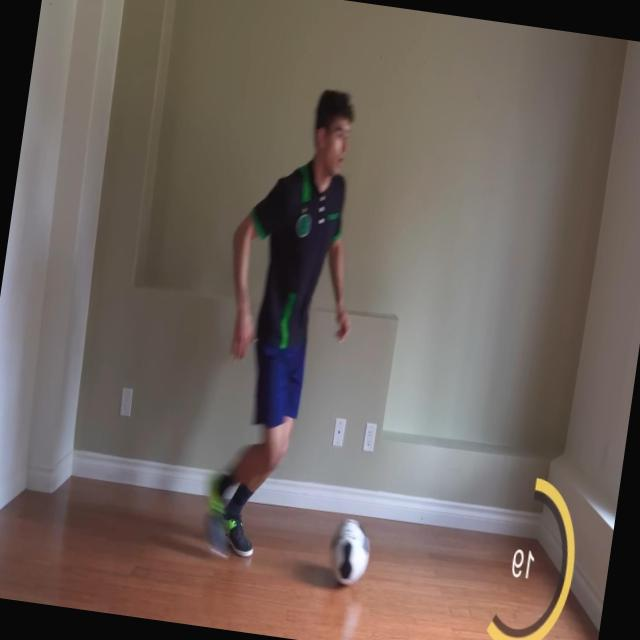Soccer Ball: (325, 516, 374, 589)
